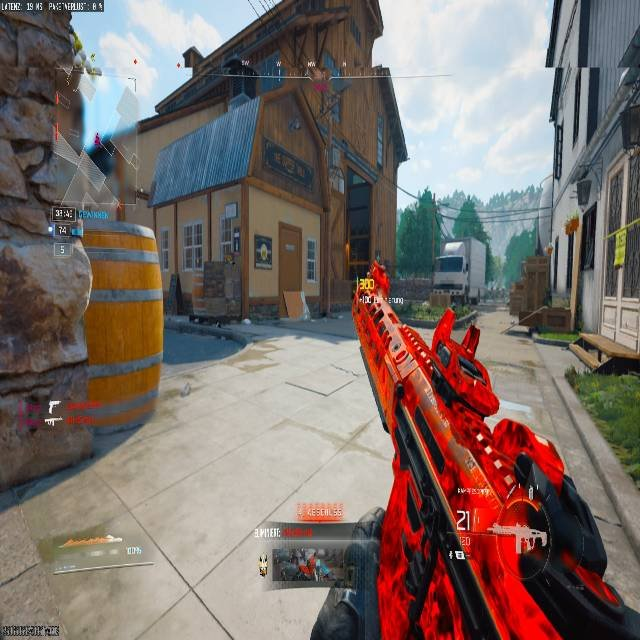player: (367, 262, 389, 300)
